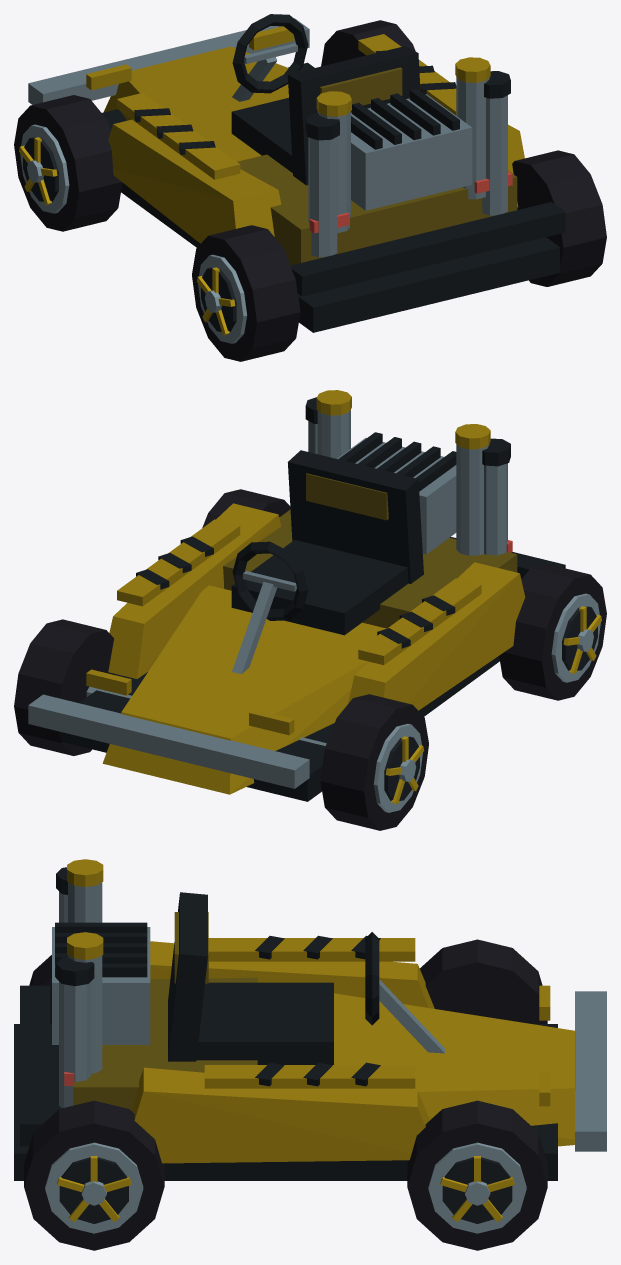
The model's file is kart.glb.
The picture shows the model from 3 angles, top to bottom: view 1: azimuth 30°, elevation 25°; view 2: azimuth 150°, elevation 25°; view 3: azimuth 270°, elevation 25°; orthographic projection. The views are drawn at different scales.
Parts seen in each view (by area): view 1: chassis, wheel-rear-left, wheel-front-left, wheel-rear-right, wheel-front-right; view 2: chassis, wheel-front-left, wheel-rear-left, wheel-front-right, wheel-rear-right; view 3: chassis, wheel-front-right, wheel-rear-right, wheel-front-left, wheel-rear-left.
Boxes of the visible parts, left/top/right/bottom form: chassis: left=28, top=14, right=565, bottom=332; wheel-rear-left: left=192, top=225, right=300, bottom=361; wheel-front-left: left=14, top=95, right=122, bottom=231; wheel-rear-right: left=512, top=150, right=606, bottom=286; wheel-front-right: left=321, top=20, right=415, bottom=66; chassis: left=28, top=390, right=565, bottom=801; wheel-front-left: left=320, top=694, right=428, bottom=830; wheel-rear-left: left=499, top=564, right=606, bottom=700; wheel-front-right: left=14, top=619, right=117, bottom=755; wheel-rear-right: left=202, top=489, right=290, bottom=527; chassis: left=14, top=859, right=606, bottom=1180; wheel-front-right: left=407, top=1100, right=547, bottom=1250; wheel-rear-right: left=24, top=1100, right=164, bottom=1250; wheel-front-left: left=420, top=939, right=547, bottom=1023; wheel-rear-left: left=29, top=955, right=51, bottom=1023.
Size of the model in its own units: 2.34 by 1.4 by 2.96.
